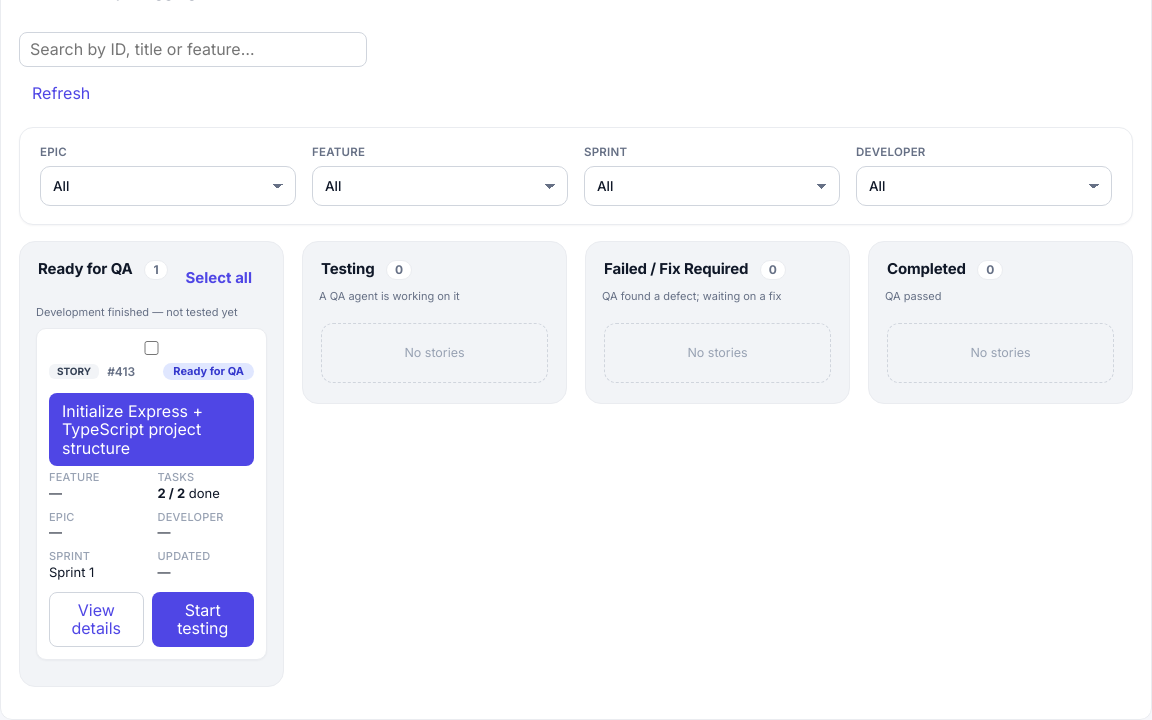
Scenario: QaBoardView refusals › says something even when the API gives no reason at all
The image size is (1152, 720).
(page scrolled)
What coordinates should you click on to do the following:
click the button "Start testing"
I would click on:
 (203, 619)
Its box is [152,592,254,646].
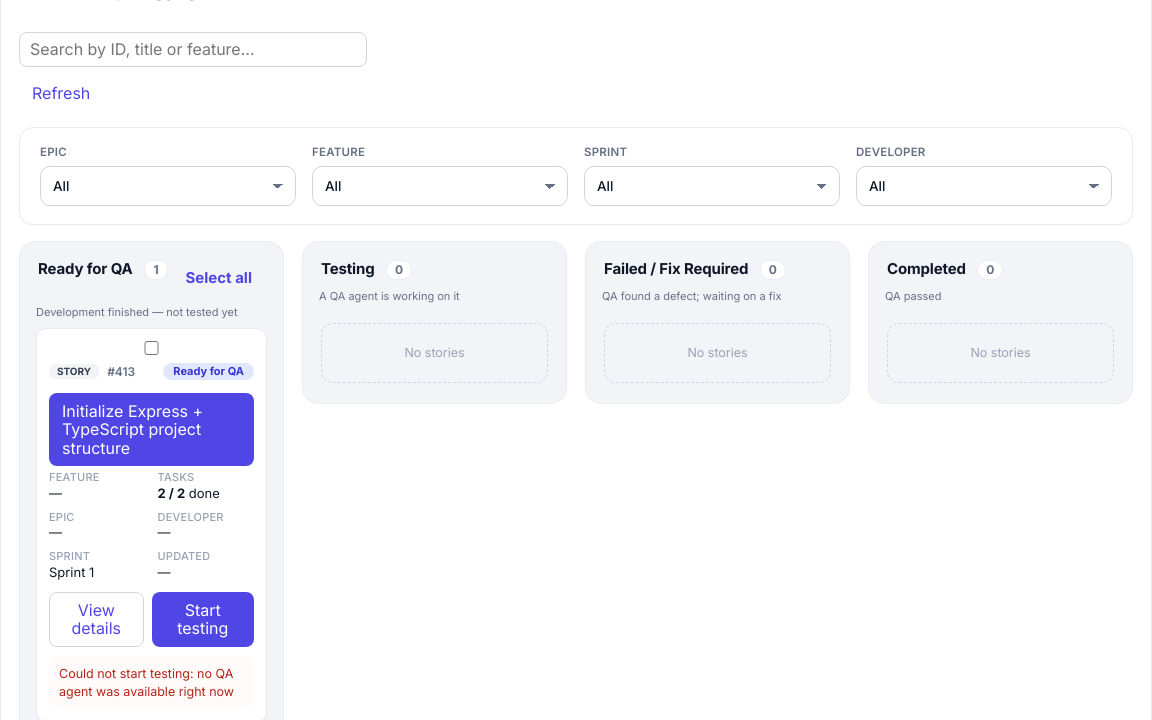
Expected: the message shows "Could not start testing", [59,666,234,699]
